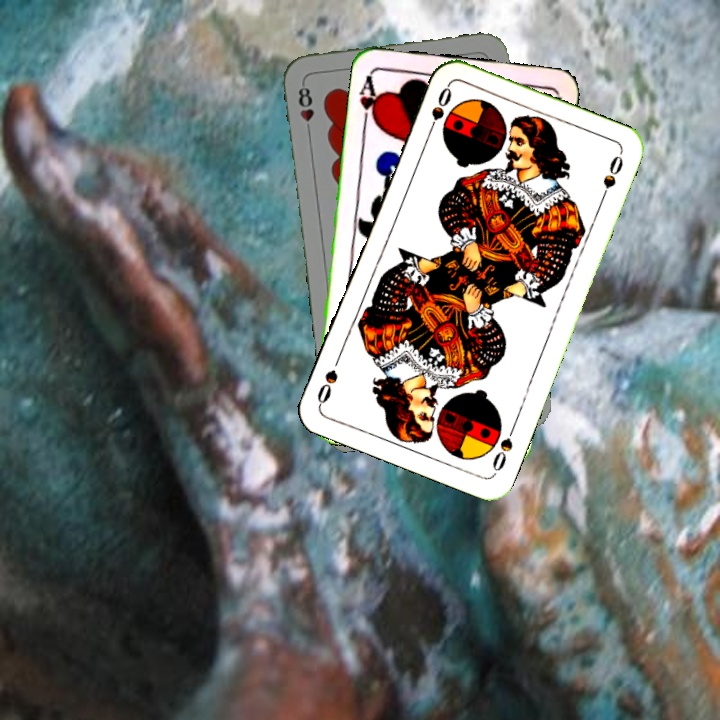H8: (294, 79, 317, 138)
HA: (355, 70, 383, 129)
SO: (423, 82, 455, 138), (488, 420, 519, 476)
